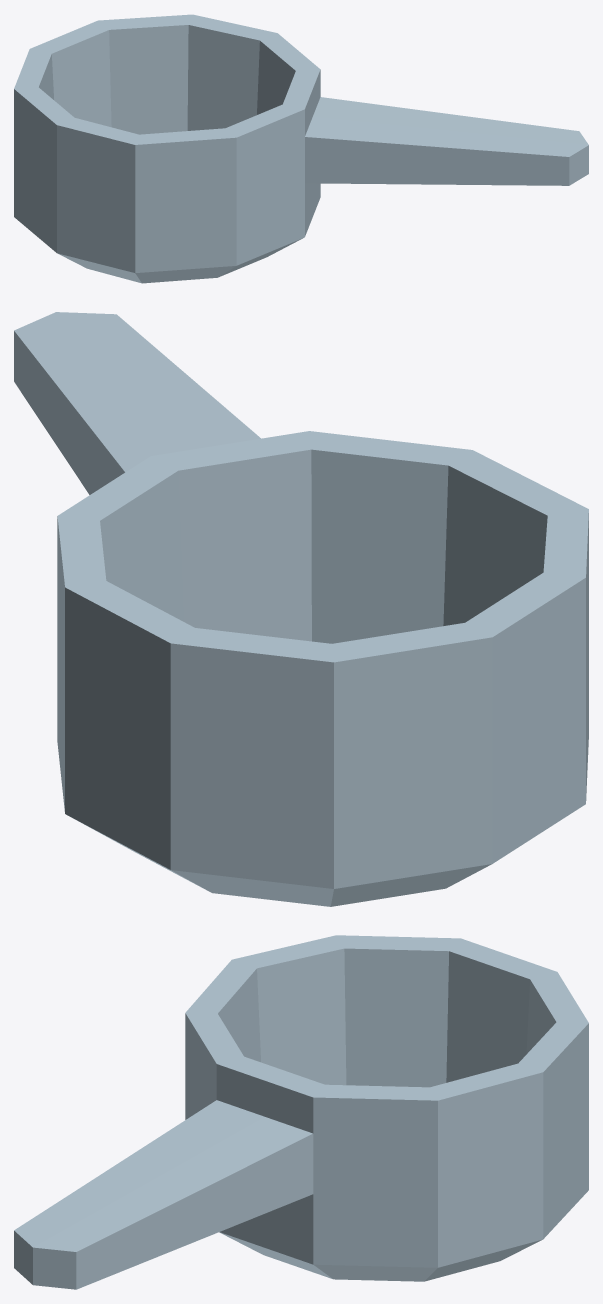
The model's file is Kettle.fbx.
3 views of the same model, one above another, from view 1: azimuth 30°, elevation 25°; view 2: azimuth 150°, elevation 25°; view 3: azimuth 270°, elevation 25° (orthographic). The views are drawn at different scales.
Parts seen in each view (by area): view 1: pot 2; view 2: pot 2; view 3: pot 2.
Boxes of the visible parts, x1,y1,x2,y2 form: pot 2: (14,14,588,283); pot 2: (14,312,588,906); pot 2: (14,935,588,1289).
Bounding box in the file's own units: 0.2188 × 0.0772 × 0.1975.
